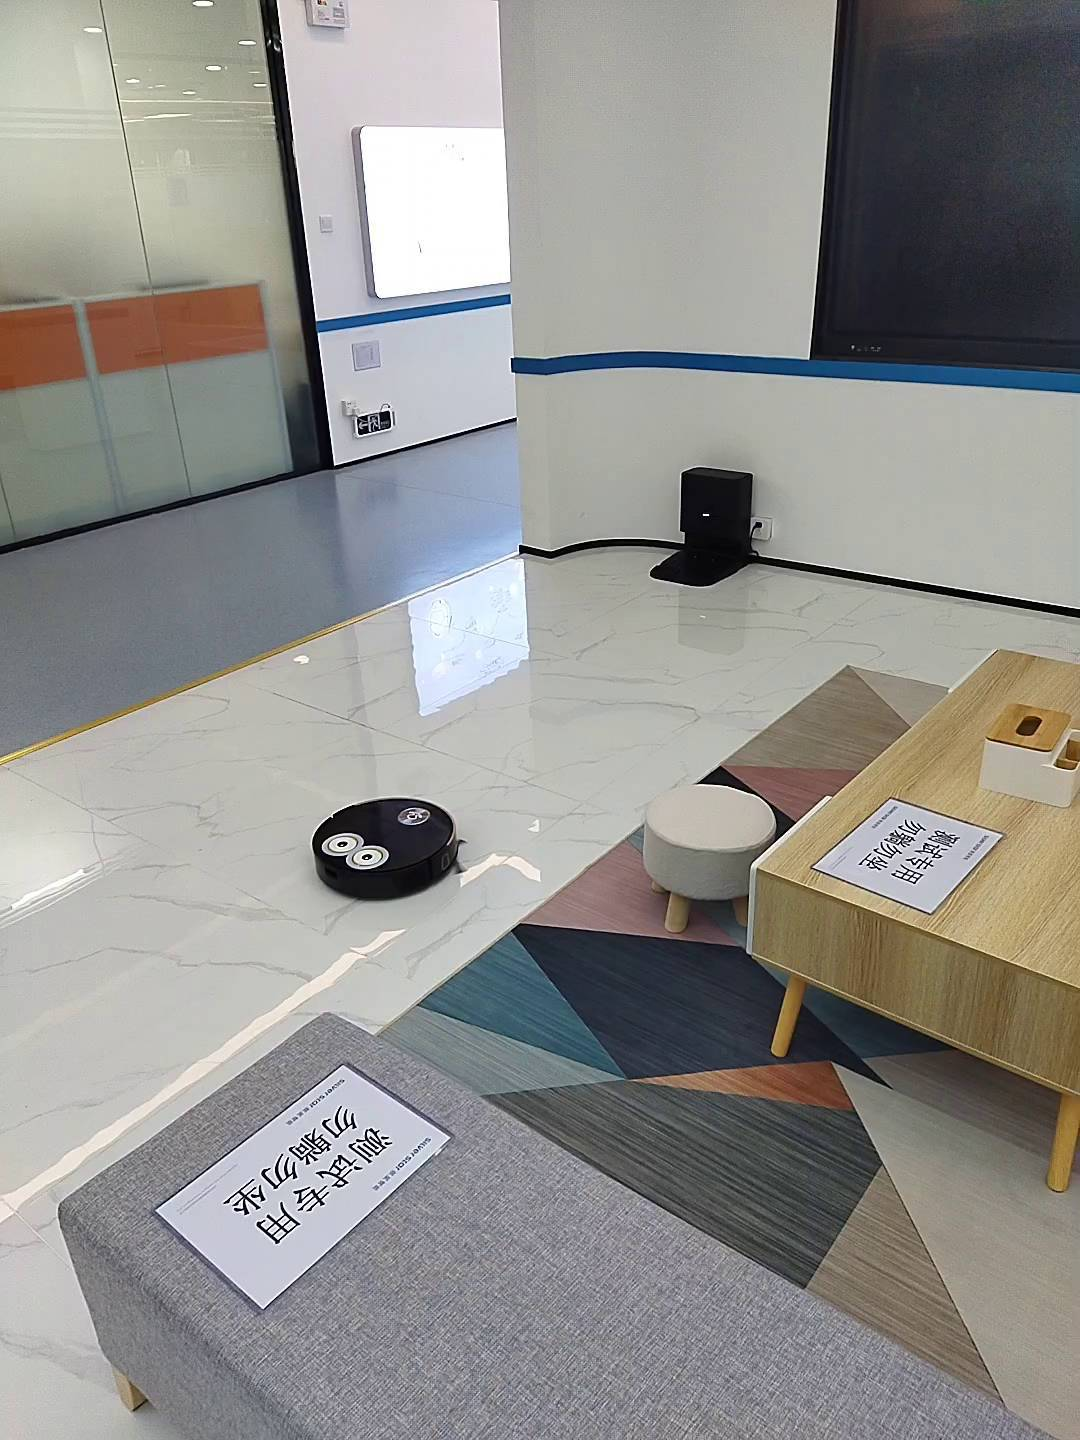dust collecting barrel: (647, 466, 754, 587)
